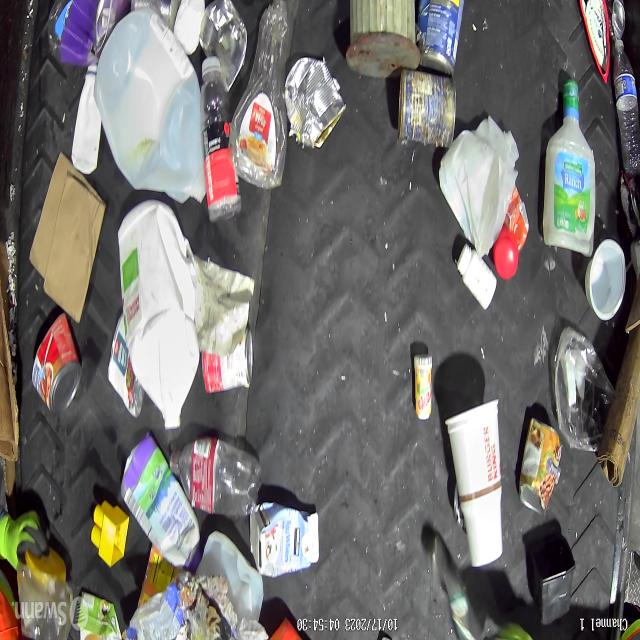can: (286, 54, 346, 146), (30, 312, 81, 416), (516, 416, 564, 518), (397, 70, 456, 146), (200, 0, 247, 92), (200, 326, 253, 394), (418, 2, 462, 72)
milk_jug: (93, 12, 205, 205), (117, 201, 199, 429), (200, 531, 264, 627)
non_white_jug: (251, 500, 318, 575)
plastic_bottle: (229, 10, 283, 191), (197, 49, 239, 223), (171, 436, 259, 514), (611, 28, 639, 173)
